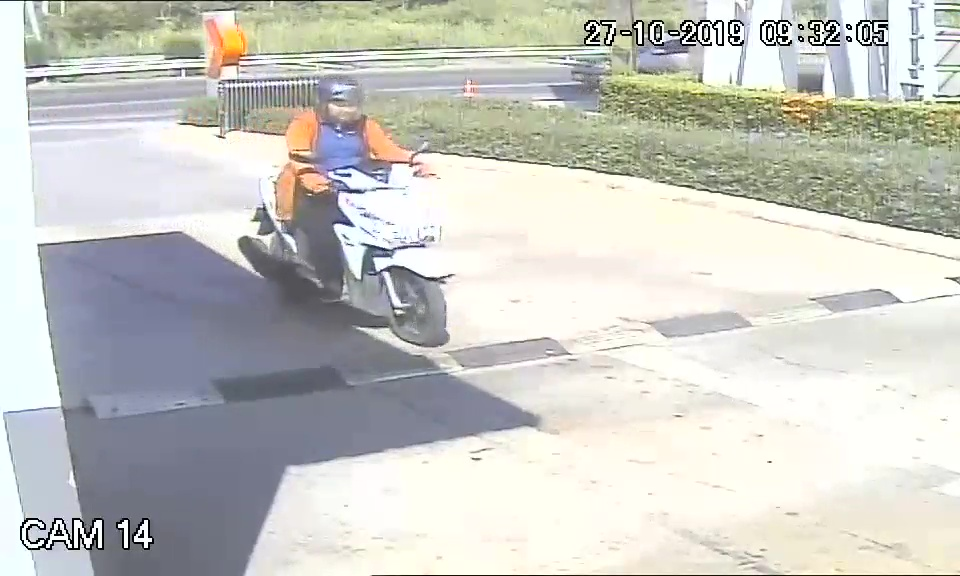motorcycle: (236, 151, 452, 349)
